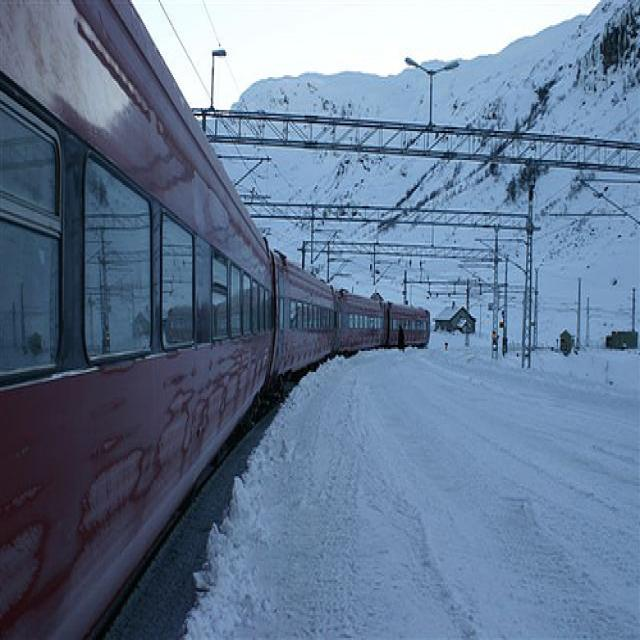train: (1, 1, 435, 626)
